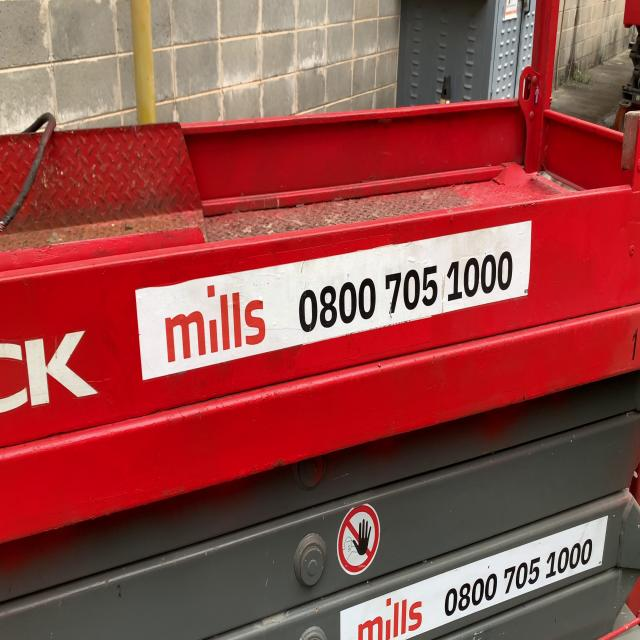Adesivo Longo: (134, 212, 534, 389), (339, 513, 611, 640)
